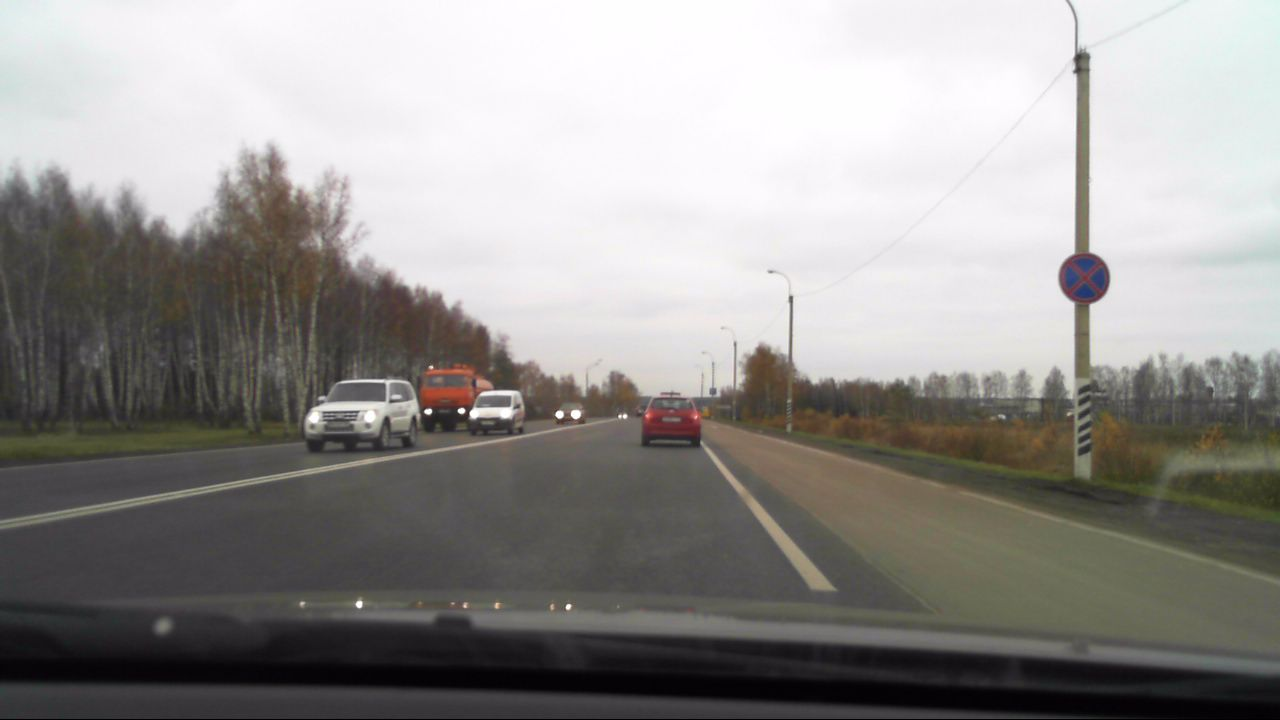No Parking: (1056, 249, 1113, 307)
